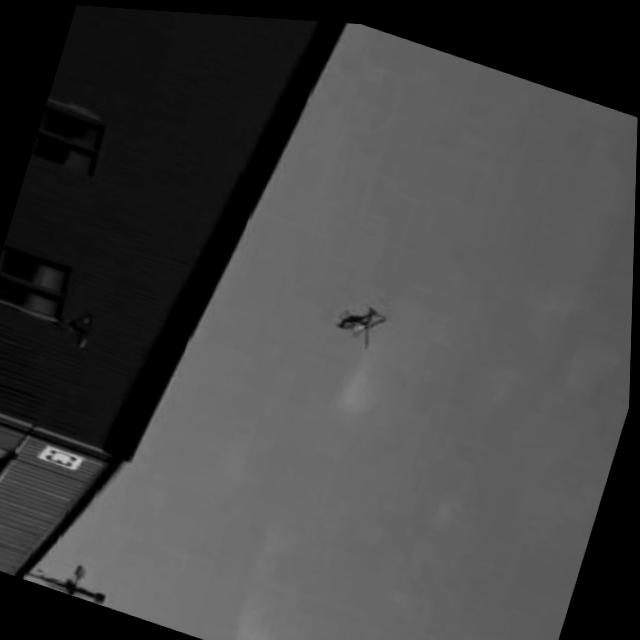helikopter: (333, 290, 393, 345)
